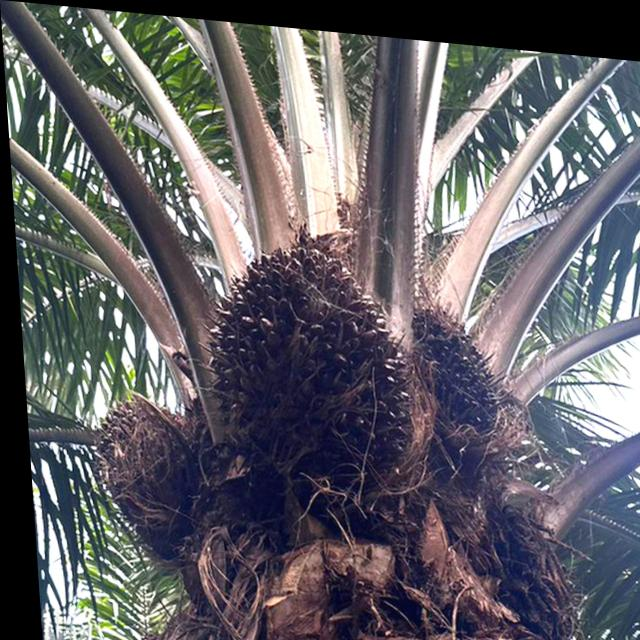ripe: (176, 205, 431, 508)
